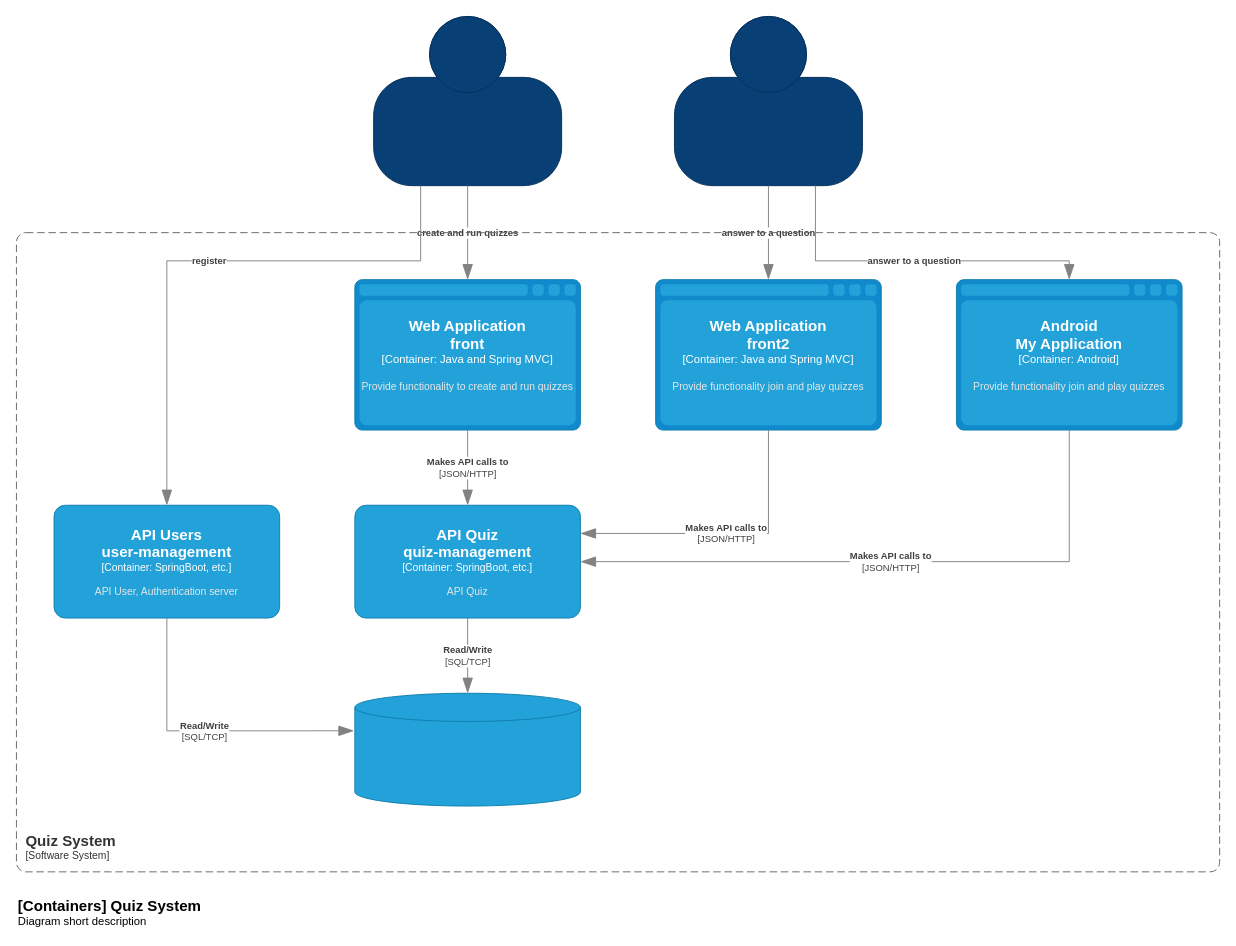
The diagram is 1236 pixels wide and 946 high, and some of its shapes have lost their labels. Each missing label, with the box of its shape:
Database [Container: PostgreSQL] Stores data: (354, 692, 580, 806)
Quiz participant [Person] participant of a particular quiz: (674, 16, 862, 186)
User [Person] Quiz maker: (373, 16, 562, 186)
